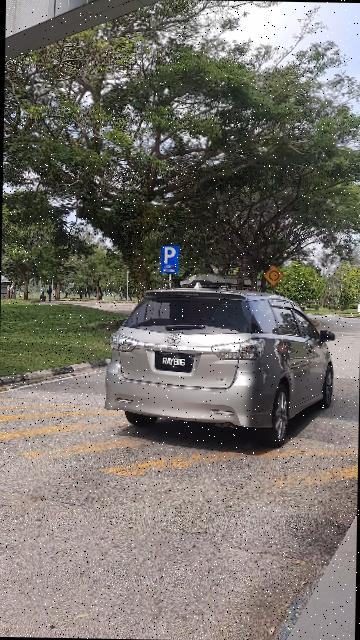License_Plate: (155, 350, 198, 376)
car: (105, 286, 341, 450)
